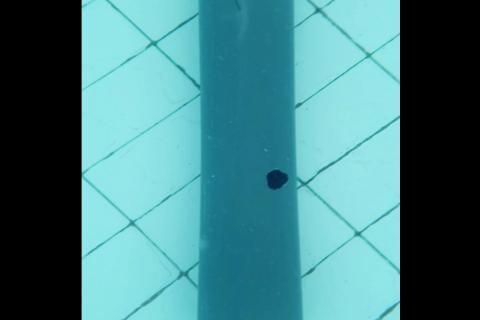kebocoran: (262, 168, 290, 190)
